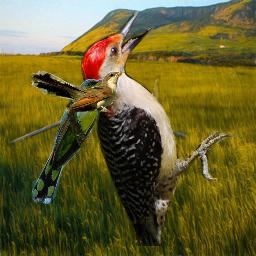Cuckoo: (32, 79, 108, 204), (31, 71, 125, 112)
Woodpecker: (81, 11, 236, 246)
